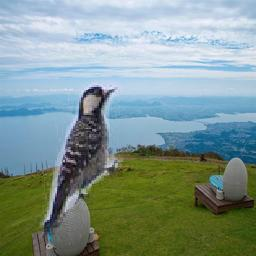Woodpecker: (36, 76, 125, 243)
